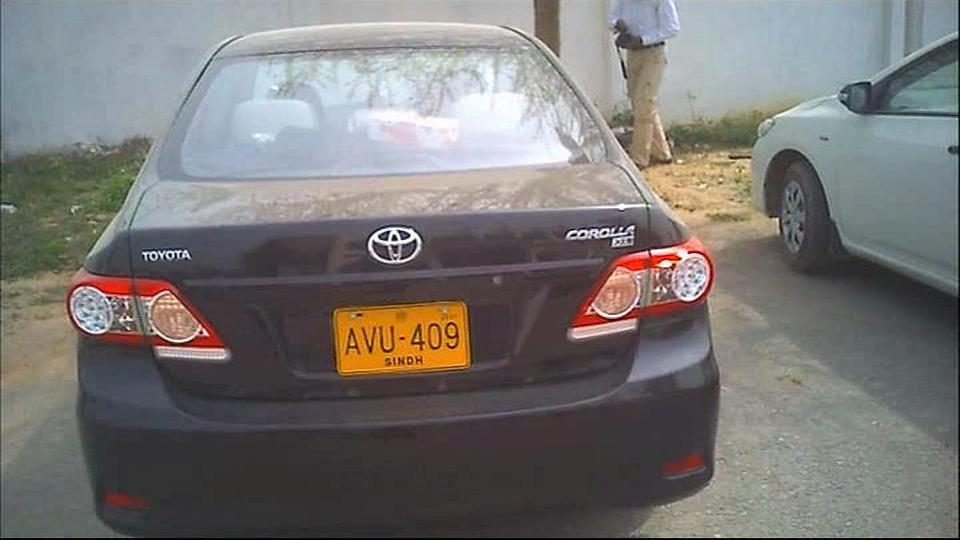NumberPlate: (323, 310, 504, 380)
